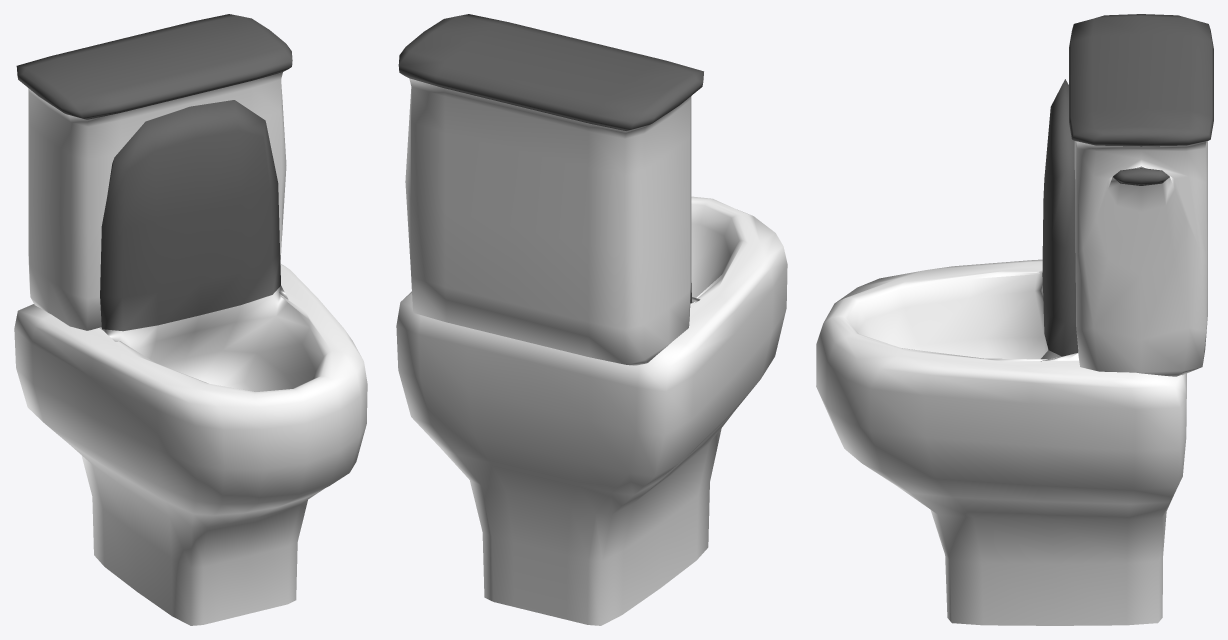
File: Toilet.fbx
3 views of the same model, side by side, from view 1: azimuth 30°, elevation 25°; view 2: azimuth 150°, elevation 25°; view 3: azimuth 270°, elevation 25° (orthographic). The views are drawn at different scales.
Parts seen in each view (by area): view 1: Toilet; view 2: Toilet; view 3: Toilet.
Boxes of the visible parts, x1,y1,x2,y2 form: Toilet: (14, 14, 367, 625); Toilet: (396, 14, 787, 625); Toilet: (816, 14, 1213, 625).
Size of the model in its own units: 82.79 by 155 by 107.
Materials: 1 (1 with a texture image).
